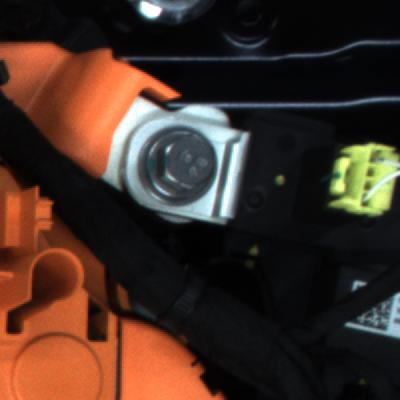nut_b: (135, 122, 236, 213)
